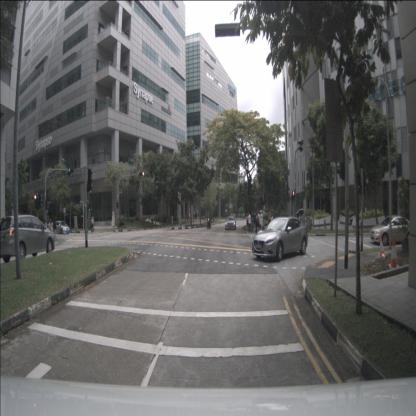cone: (388, 233, 399, 270), (377, 234, 388, 262)
